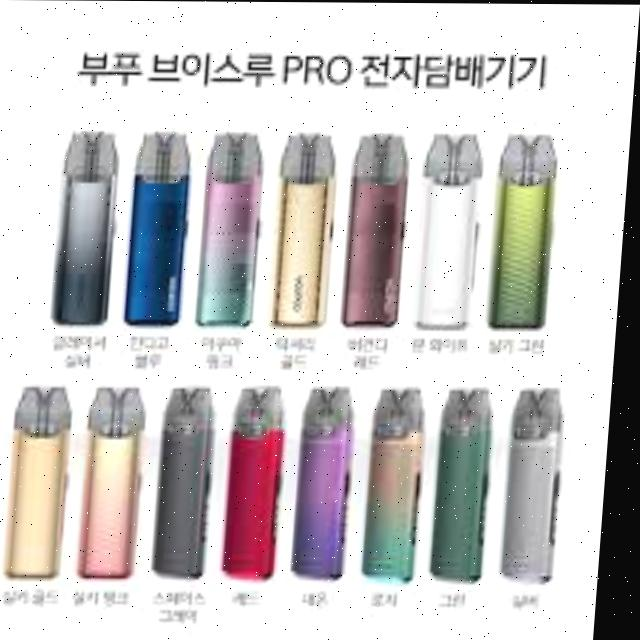vape: (492, 132, 563, 332), (344, 132, 416, 327), (126, 132, 197, 328), (86, 386, 156, 582), (202, 129, 270, 328), (420, 131, 486, 335), (13, 386, 81, 579), (436, 388, 505, 578), (275, 132, 342, 326), (57, 131, 124, 324), (507, 387, 573, 582), (299, 387, 365, 579), (369, 388, 435, 579), (228, 388, 292, 580), (161, 385, 223, 582)
